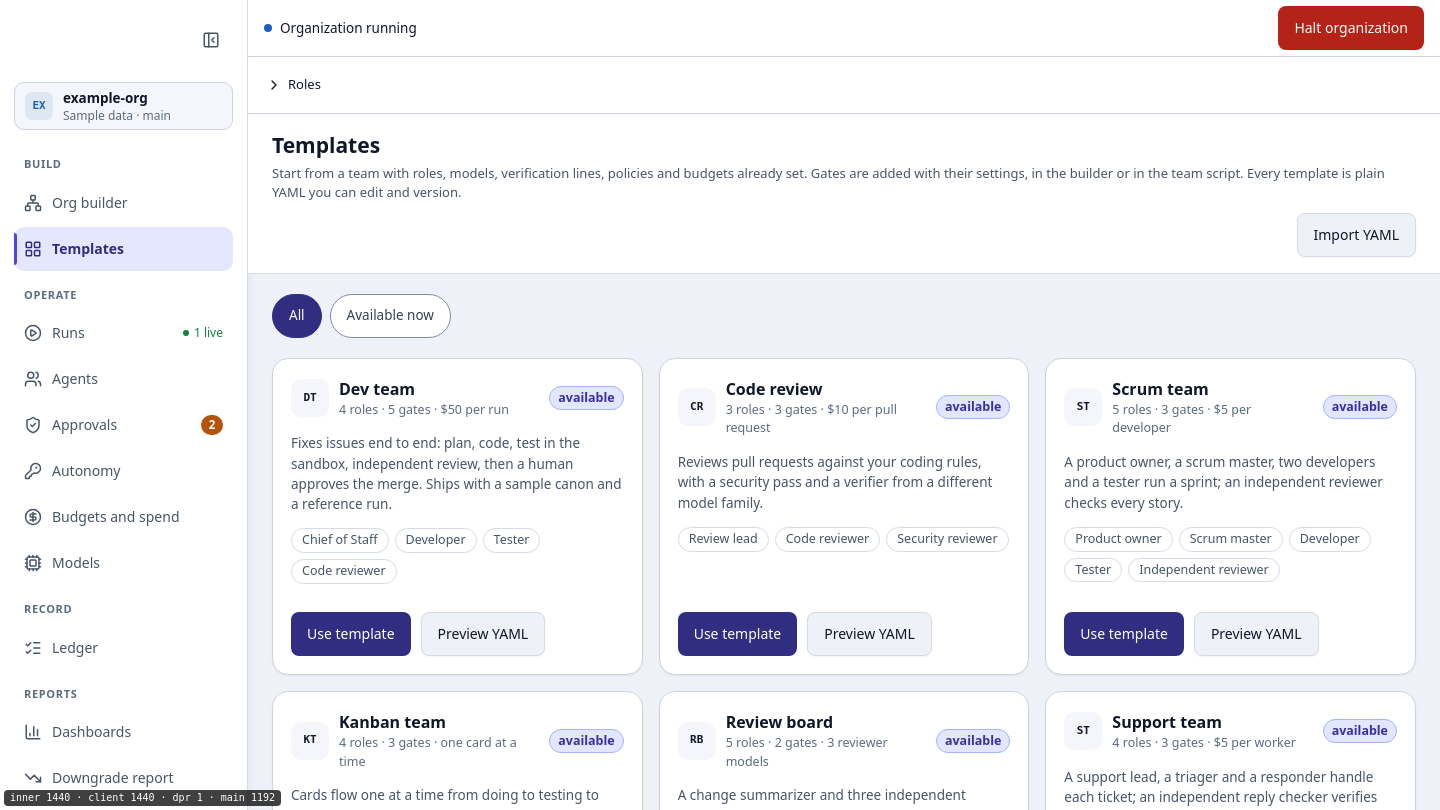
Scrum, Kanban and review-board templates (ND64) › Use template hands the team to the builder
The width and height of the screenshot is (1440, 810).
Click the button "Use template" below "5 roles · 3 gates · $5 per developer".
click(1124, 634)  # box left=1064, top=612, right=1184, bottom=656
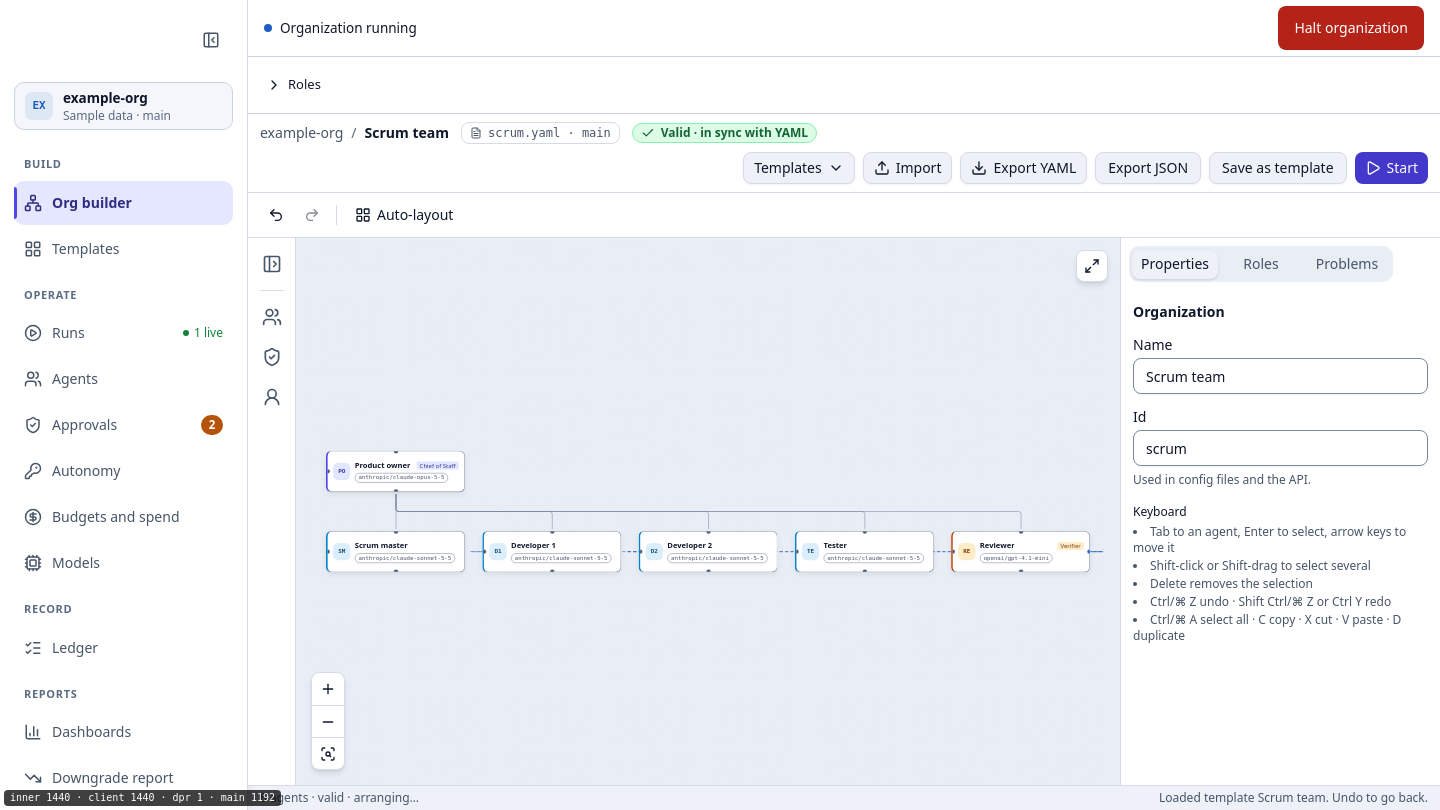
Result: the text "Loaded template Scrum team. Undo to go back." is shown at left=1159, top=790, right=1428, bottom=806
Result: the text with test id "builder-summary" shows "6 agents" at left=260, top=790, right=419, bottom=806
